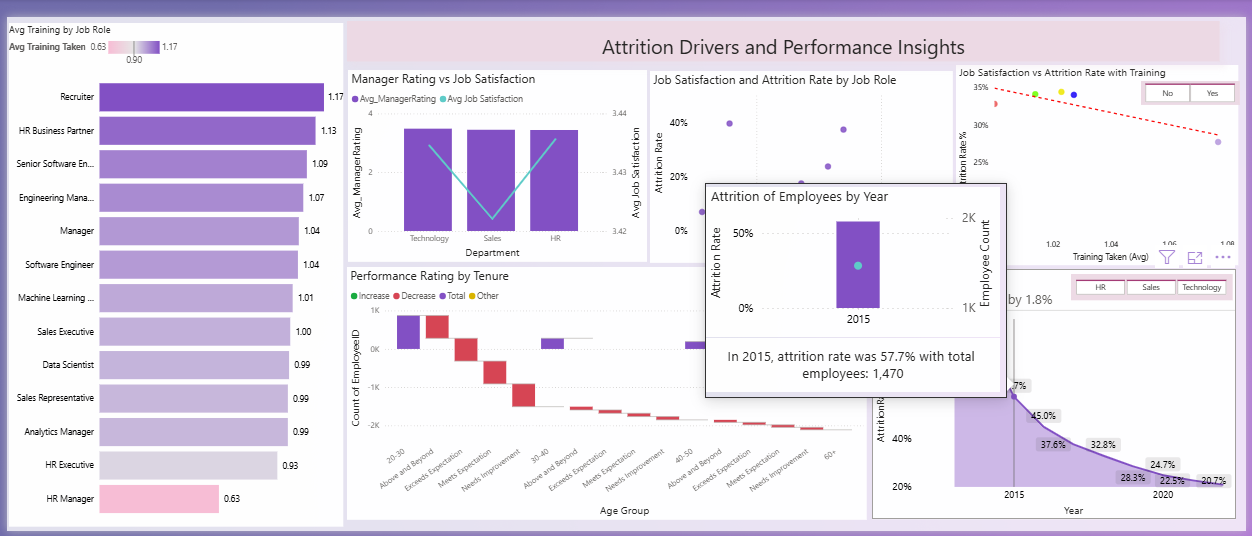

This screenshot's page, from the dashboard's own definition file:
{"tool":"powerbi","page":{"name":"Attrition Drivers and Performance Insights","canvas":[1931,800],"ordinal":2},"visuals":[{"type":"clusteredBarChart","title":"Avg Training by Job Role","fields":{"Category":["Employee.JobRole"],"Y":["Avg(PerformanceRating.TrainingOpportunitiesTaken)"]},"box":[3.1,9.2,521.4,785.1],"z":0},{"type":"scatterChart","title":"Job Satisfaction and Attrition Rate by Job Role","fields":{"Y":["Page1 Measure.Attrition Rate"],"X":["Page1 Measure.Avg Job Satisfaction"],"Category":["Employee.JobRole"]},"box":[1002.1,84.2,472.2,299.2],"z":1000},{"type":"group","id":"g1","title":"Group 2","box":[1479,74.8,442.6,311.7],"z":2000},{"type":"scatterChart","title":"Job Satisfaction vs Attrition Rate with Training","fields":{"X":["Avg(PerformanceRating.TrainingOpportunitiesTaken)"],"Y":["Page1 Measure.AttritionRateNew"],"Category":["PerformanceRating.JobSatisfaction"]},"box":[1479,74.8,439.5,311.7],"z":2000,"group":"g1"},{"type":"lineClusteredColumnComboChart","title":"Manager Rating vs Job Satisfaction ","fields":{"Category":["Employee.Department"],"Y":["Page1 Measure.Avg_ManagerRating"],"Y2":["Page1 Measure.Avg Job Satisfaction"]},"box":[531.5,82.6,466,299.2],"z":3000},{"type":"waterfallChart","title":"Performance Rating by Tenure","fields":{"Category":["Employee.Age Group"],"Breakdown":["RatingLevel.RatingLevel"],"Y":["Count(Employee.EmployeeID)"]},"box":[529.9,389.6,810.4,394.3],"z":4000},{"type":"lineChart","title":"YoY Attrition Trend","fields":{"Category":["Calendar.Year"],"Y":["Page1 Measure.AttritionRateNew"]},"box":[1348.1,392.7,567.3,389.6],"z":5000},{"type":"advancedSlicerVisual","fields":{"Values":["Employee.OverTime"]},"box":[1767.3,99.7,154.3,37.4],"z":6000,"group":"g1"},{"type":"advancedSlicerVisual","fields":{"Values":["Employee.Department"]},"box":[1658.8,400.5,252.5,40.5],"z":6000},{"type":"shape","title":"Attrition Drivers and Performance Insights","box":[530.6,6.1,1360.2,62.9],"z":7000}]}

Visuals, with their boxes on the page's 1931x800 design canvas (x1, y1, x2, y2). These are canvas units, not pixel positions in the 1252x536 screenshot, which may show the page scaled, cropped or inside an application window:
"Avg Training by Job Role" clusteredBarChart: 3, 9, 524, 794
"Job Satisfaction and Attrition Rate by Job Role" scatterChart: 1002, 84, 1474, 383
"Group 2" group: 1479, 75, 1922, 386
"Job Satisfaction vs Attrition Rate with Training" scatterChart: 1479, 75, 1918, 386
"Manager Rating vs Job Satisfaction " lineClusteredColumnComboChart: 532, 83, 998, 382
"Performance Rating by Tenure" waterfallChart: 530, 390, 1340, 784
"YoY Attrition Trend" lineChart: 1348, 393, 1915, 782
advancedSlicerVisual - Employee.OverTime: 1767, 100, 1922, 137
advancedSlicerVisual - Employee.Department: 1659, 400, 1911, 441
"Attrition Drivers and Performance Insights" shape: 531, 6, 1891, 69
